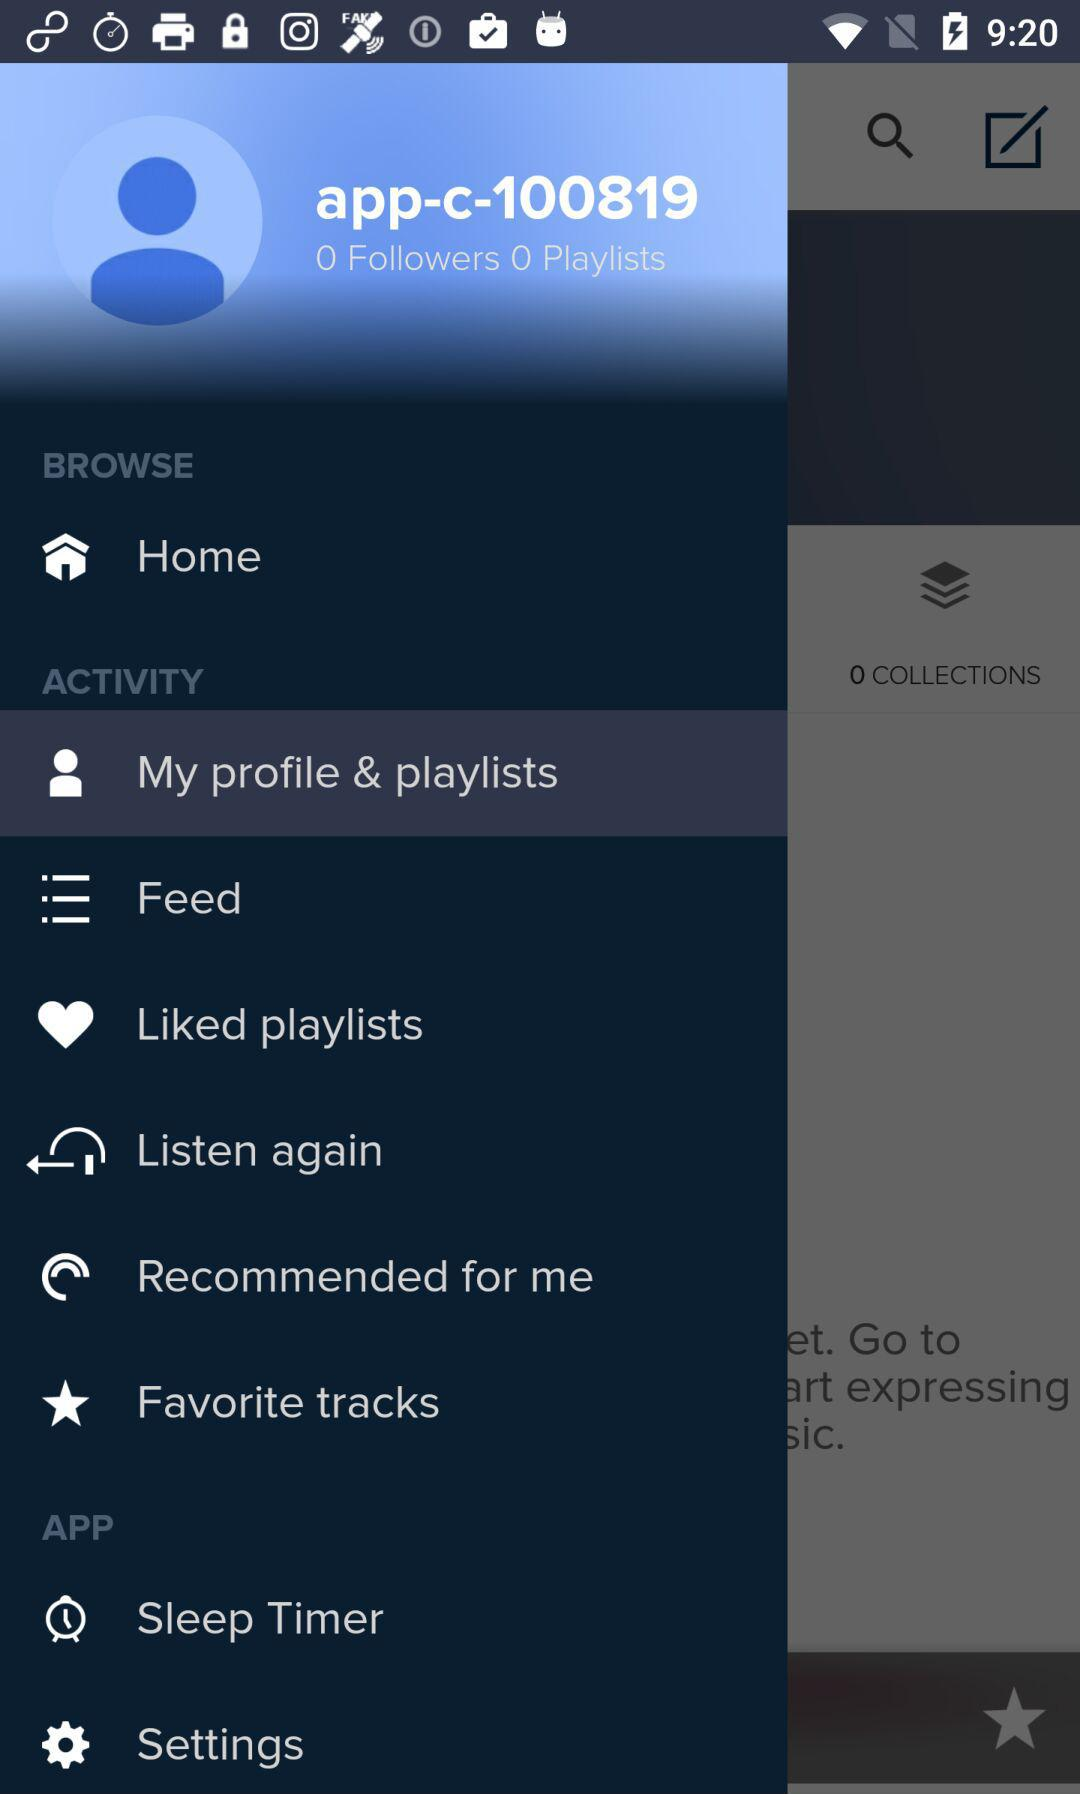Drawer: (1, 64, 787, 1794)
Icon: (51, 117, 264, 328), (983, 1683, 1051, 1756), (984, 103, 1049, 170), (26, 1126, 108, 1178), (37, 1000, 95, 1051), (41, 874, 92, 925), (41, 1720, 92, 1770), (42, 532, 92, 583), (41, 1378, 91, 1428), (867, 114, 913, 161), (45, 1594, 88, 1644), (49, 748, 85, 800)
Image: (919, 561, 971, 613), (41, 1252, 92, 1303)
Text: (316, 174, 700, 233), (135, 751, 560, 798), (138, 1258, 594, 1296), (138, 1006, 425, 1051), (314, 241, 665, 277), (138, 1132, 383, 1178), (138, 1384, 441, 1421), (137, 1601, 386, 1645), (137, 1726, 305, 1771), (41, 668, 206, 698), (44, 451, 196, 481), (138, 539, 263, 575), (138, 879, 242, 918), (851, 668, 1040, 687), (41, 1513, 115, 1542)
UpperTaskBar: (1, 1, 1080, 64)
